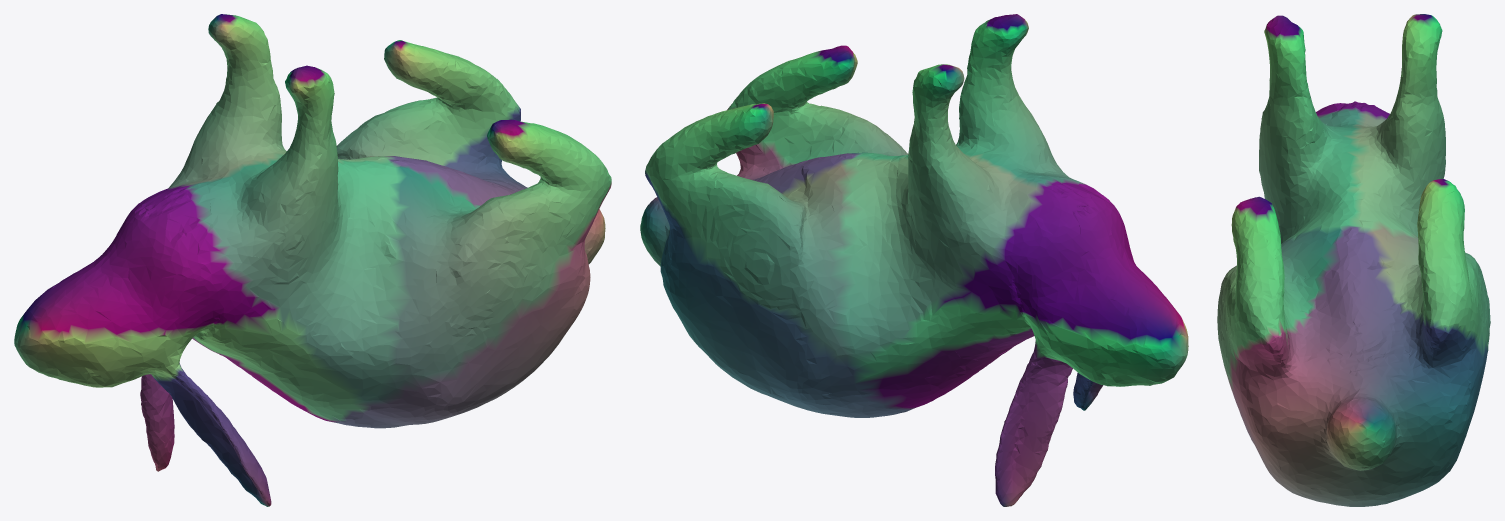
Rendered from rabbit-12.off.obj.
3 renders of one model, left to right at view 1: azimuth 30°, elevation 25°; view 2: azimuth 150°, elevation 25°; view 3: azimuth 270°, elevation 25°, orthographic. The views are drawn at different scales.
Bounding box in the file's own units: 1.67 × 1.22 × 0.7011.
